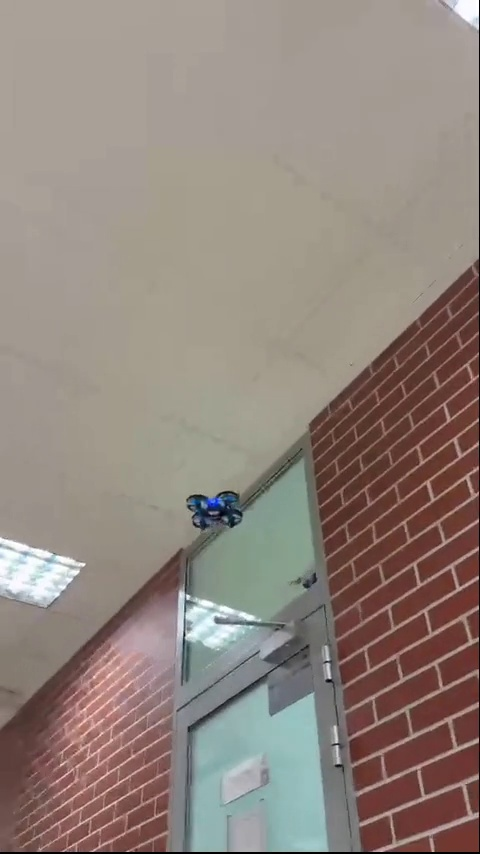drone: (188, 491, 242, 535)
